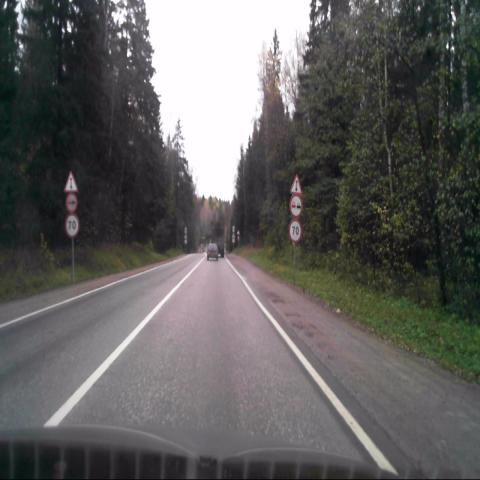1_8: (290, 173, 301, 194)
3_20: (289, 196, 302, 218)
